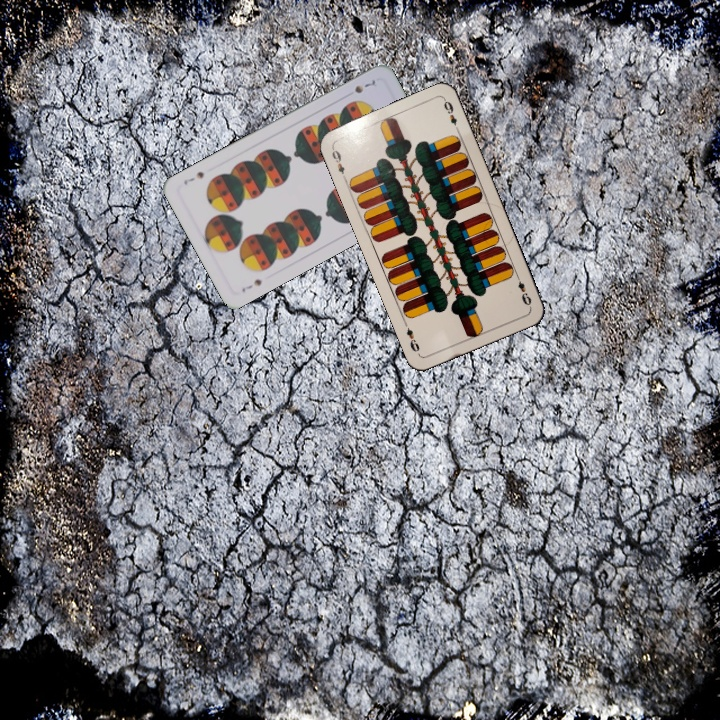E9: (512, 271, 534, 310), (327, 143, 348, 182)
S7: (350, 75, 378, 96), (238, 275, 264, 295)
